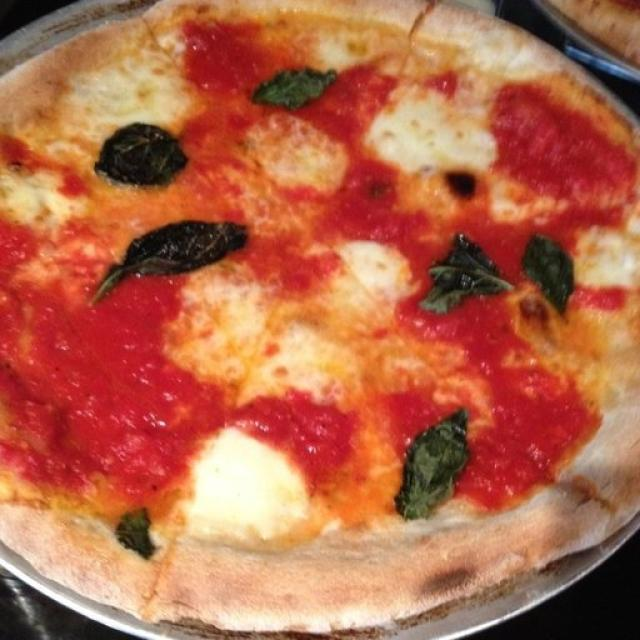Basil: (90, 220, 246, 300), (404, 410, 468, 518), (98, 122, 184, 186), (432, 239, 508, 310), (521, 239, 576, 314), (259, 69, 337, 102), (120, 513, 154, 554), (446, 165, 476, 202)
Cheese: (195, 306, 345, 386), (208, 450, 286, 528), (49, 81, 194, 118), (402, 94, 482, 160), (272, 136, 334, 184), (586, 230, 640, 280), (348, 249, 400, 298), (17, 179, 66, 222)
Pizza: (0, 0, 640, 625)
